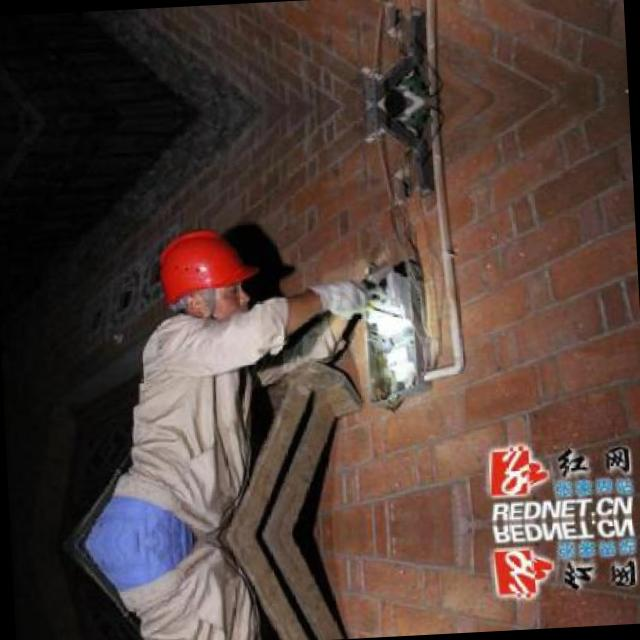helmet: (147, 224, 257, 330)
